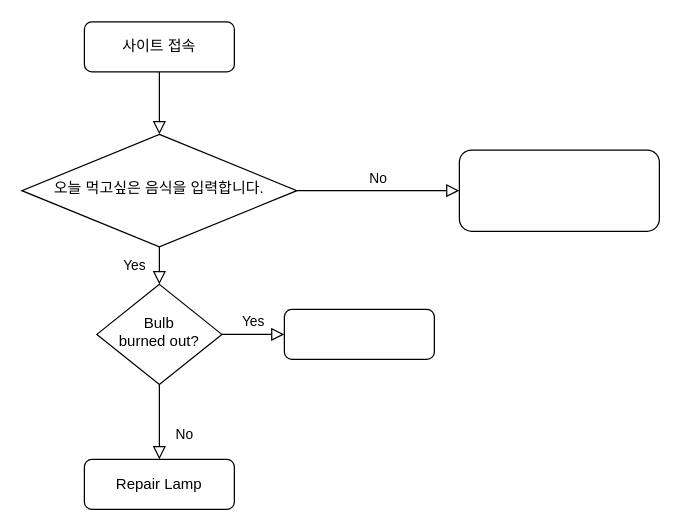
Image size: 681x531. Some labels were removed from this diagram. The shapes that lost their labels are listed below. From the top down, each one's centre as x and y in pixels, then its label:
At point 558,190: "오늘 먹으면 기분좋을 음식을 추천(예측)합니다.".
At point 358,333: "Replace Bulb".
